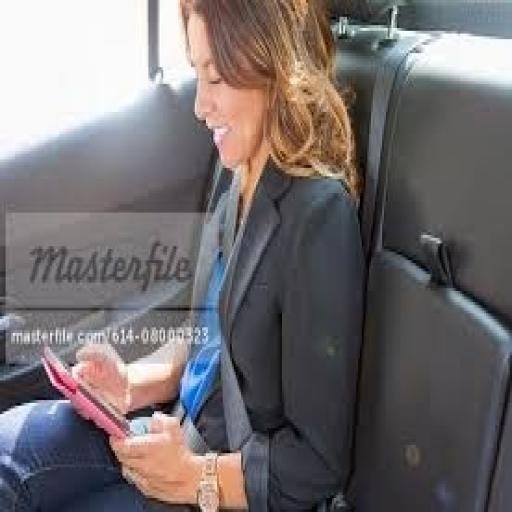texting: (0, 0, 367, 509)
